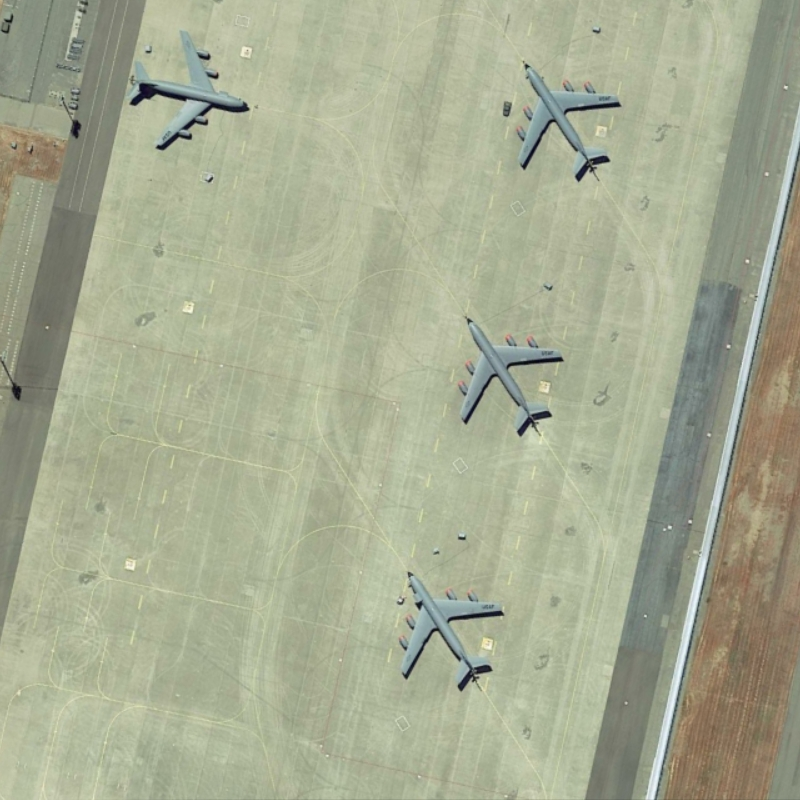A14: (120, 23, 260, 155), (388, 560, 513, 697), (449, 311, 568, 445), (508, 50, 626, 185)
